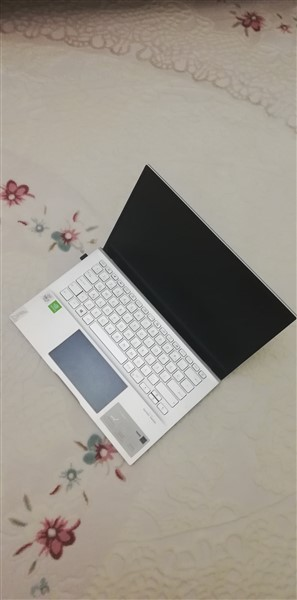laptop: (12, 160, 297, 467)
